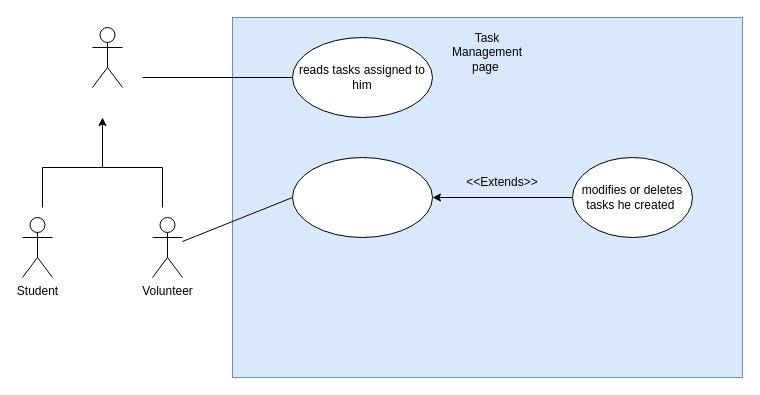
This 760x395 diagram has some shape labels left out. The shapes that lost their labels are listed below. From the top down, each one's box as (x1, y1, x2, y2) in pixels, then its label:
(92, 26, 122, 88): User
(292, 156, 432, 238): creates tasks to students he mentors or to himself
